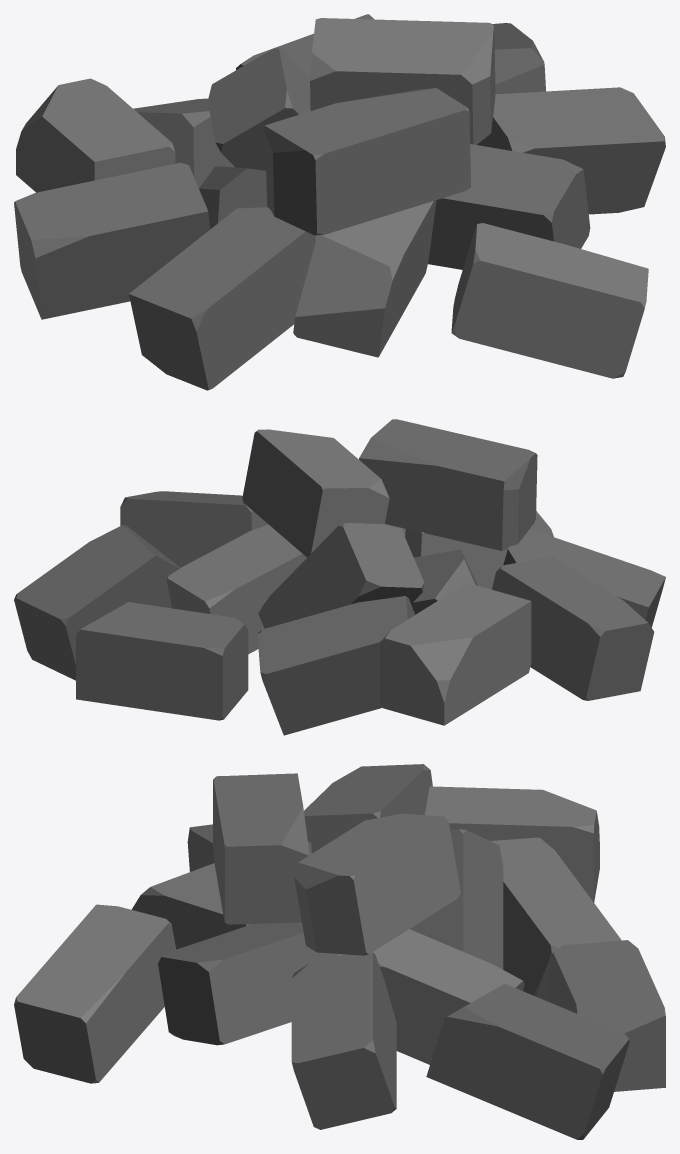
File: Wall_04.fbx
3 renders of one model, top to bottom at view 1: azimuth 30°, elevation 25°; view 2: azimuth 150°, elevation 25°; view 3: azimuth 270°, elevation 25°, orthographic. The views are drawn at different scales.
Parts seen in each view (by area): view 1: Wall_04_LOD0; view 2: Wall_04_LOD0; view 3: Wall_04_LOD0.
Boxes of the visible parts, left/top/right/bottom form: Wall_04_LOD0: left=14, top=14, right=665, bottom=390; Wall_04_LOD0: left=14, top=419, right=665, bottom=735; Wall_04_LOD0: left=14, top=764, right=665, bottom=1139.
Size of what is drawn, in the model's own units: 2.89 by 1.07 by 2.82.
